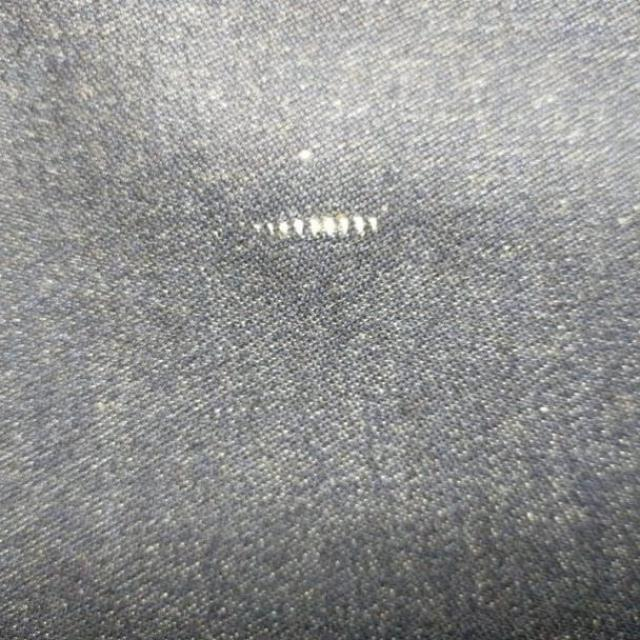Knot: (251, 214, 380, 239)
